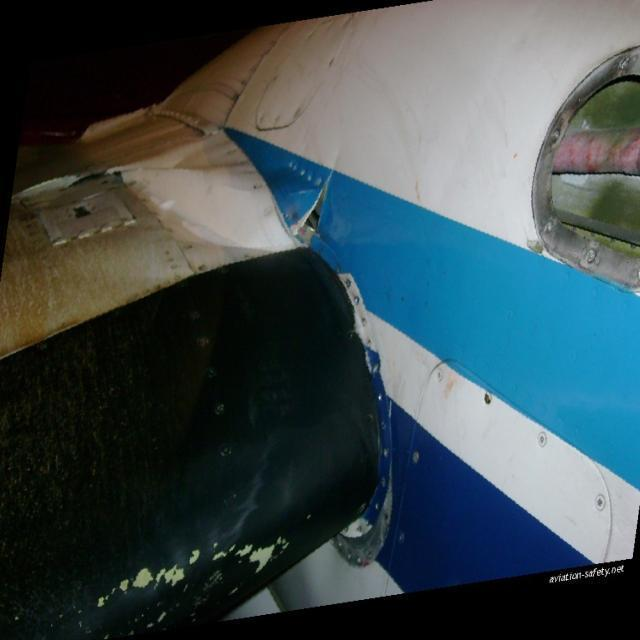crack: (290, 175, 332, 244)
